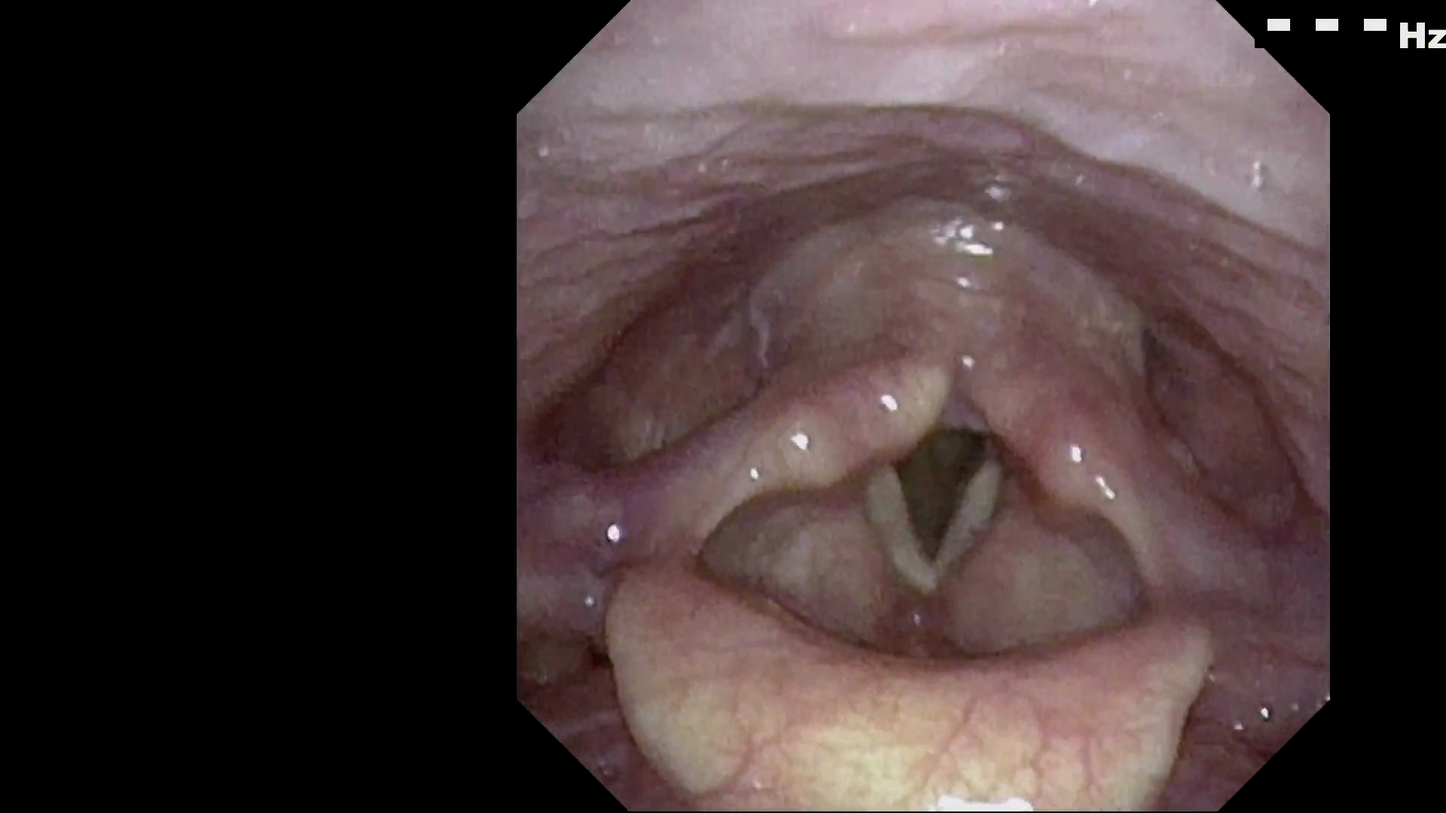epiglottis: (612, 503, 1225, 779)
trachea: (862, 349, 1041, 574)
